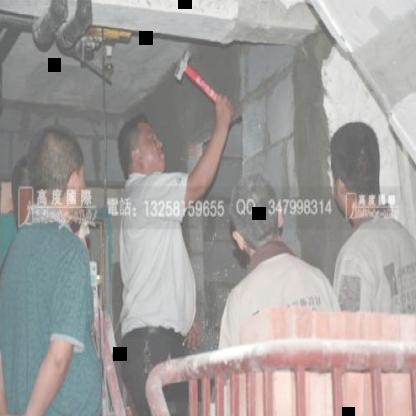head: (26, 116, 89, 233), (326, 118, 384, 224), (231, 172, 287, 256), (116, 113, 168, 180)
